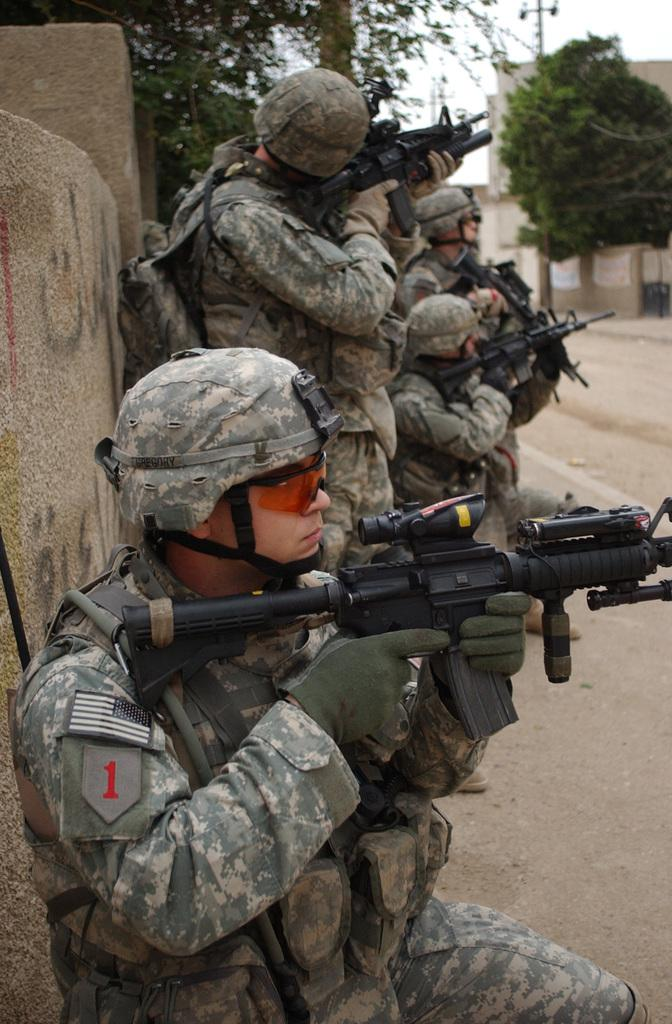Rifle: (106, 482, 672, 792), (288, 109, 500, 237), (423, 293, 624, 391)
